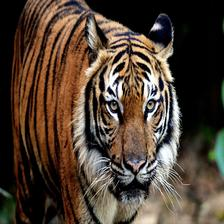tiger: (16, 6, 188, 217)
